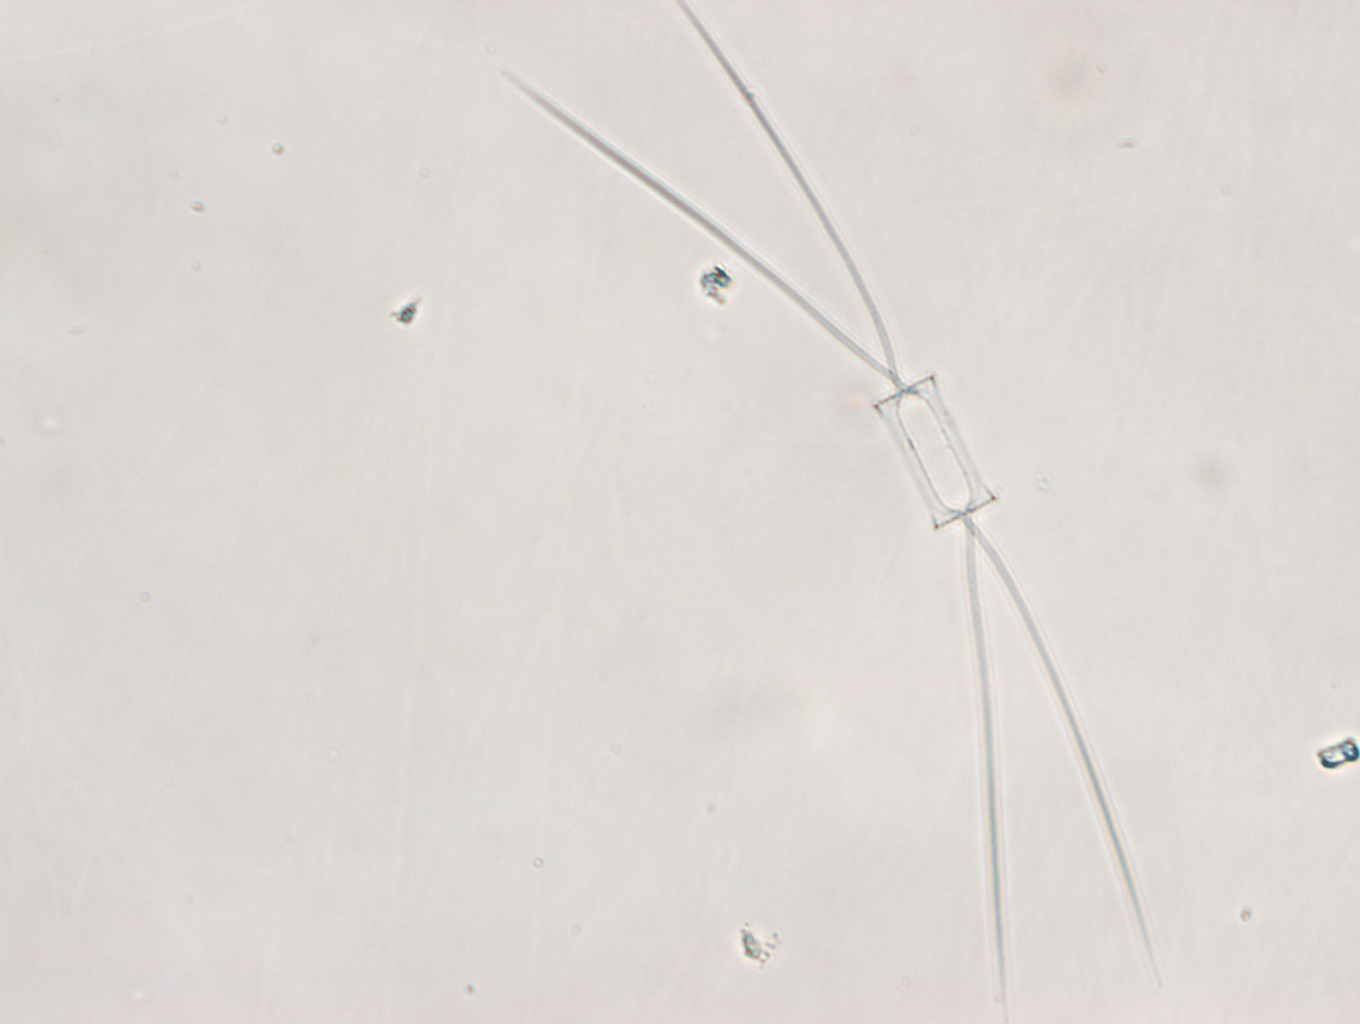chaetoceros: (493, 1, 1157, 1007)
